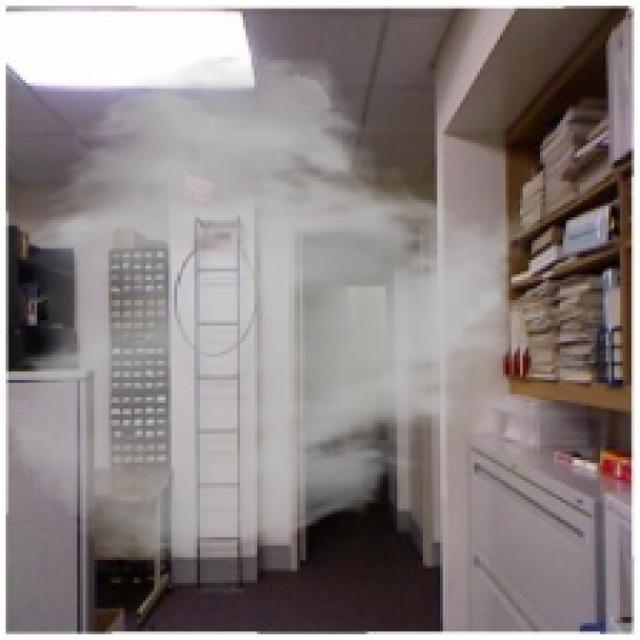Smoke: (0, 49, 543, 568)
